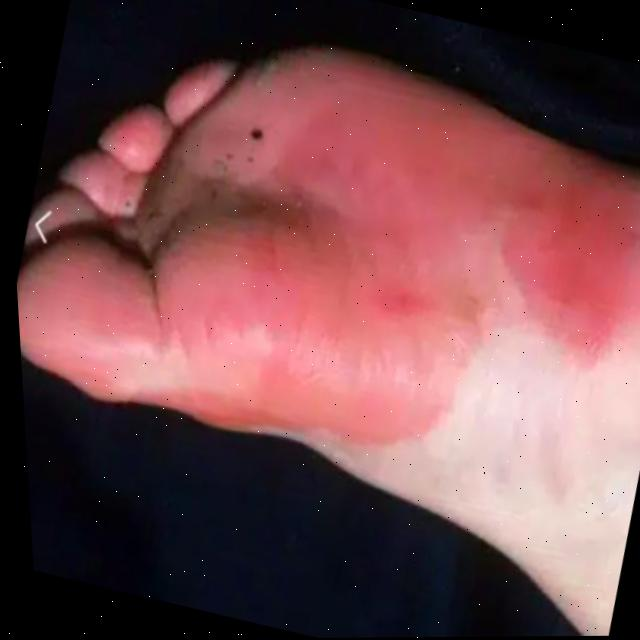Eczema: (36, 23, 640, 484)
